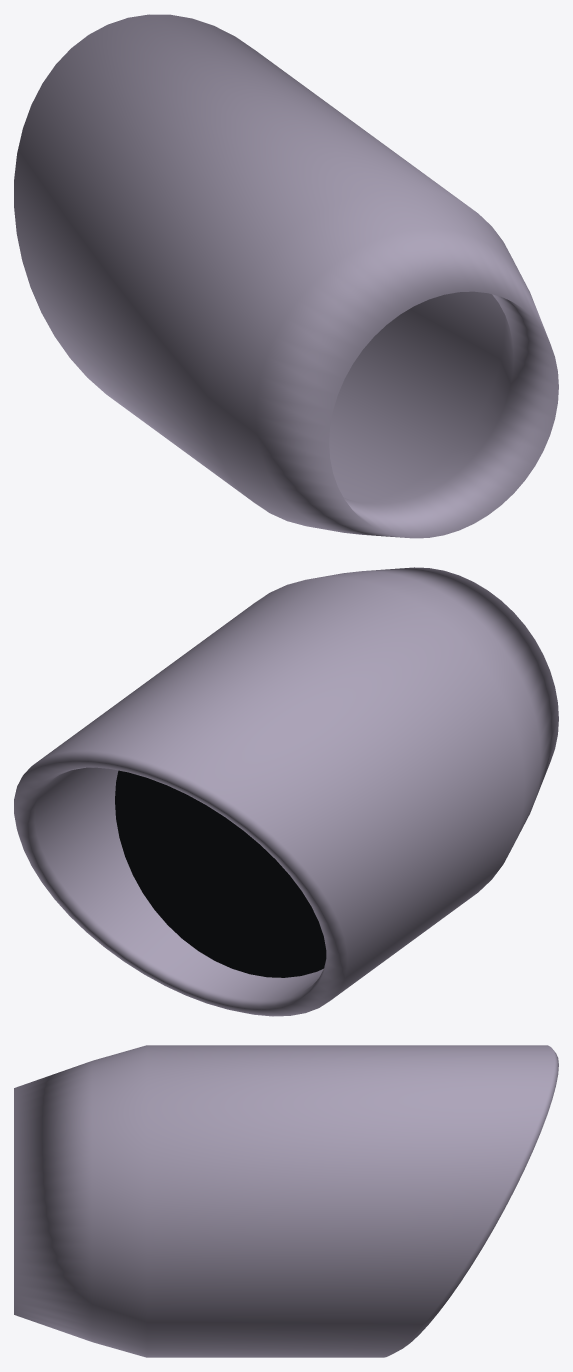
File: EX43_slash_cut_single.glb
3 views of the same model, one above another, from view 1: azimuth 30°, elevation 25°; view 2: azimuth 150°, elevation 25°; view 3: azimuth 270°, elevation 25° (orthographic). The views are drawn at different scales.
Parts seen in each view (by area): view 1: MOD_NA_EX43_tip; view 2: MOD_NA_EX43_tip, MOD_NA_EX43_bore; view 3: MOD_NA_EX43_tip.
Part boxes in pixels (left/top/right/bottom): MOD_NA_EX43_tip: left=14, top=14, right=558, bottom=538; MOD_NA_EX43_tip: left=14, top=567, right=558, bottom=1016; MOD_NA_EX43_bore: left=115, top=770, right=326, bottom=977; MOD_NA_EX43_tip: left=14, top=1045, right=558, bottom=1357.
Size of the model in its own units: 0.08 by 0.08 by 0.1393.
